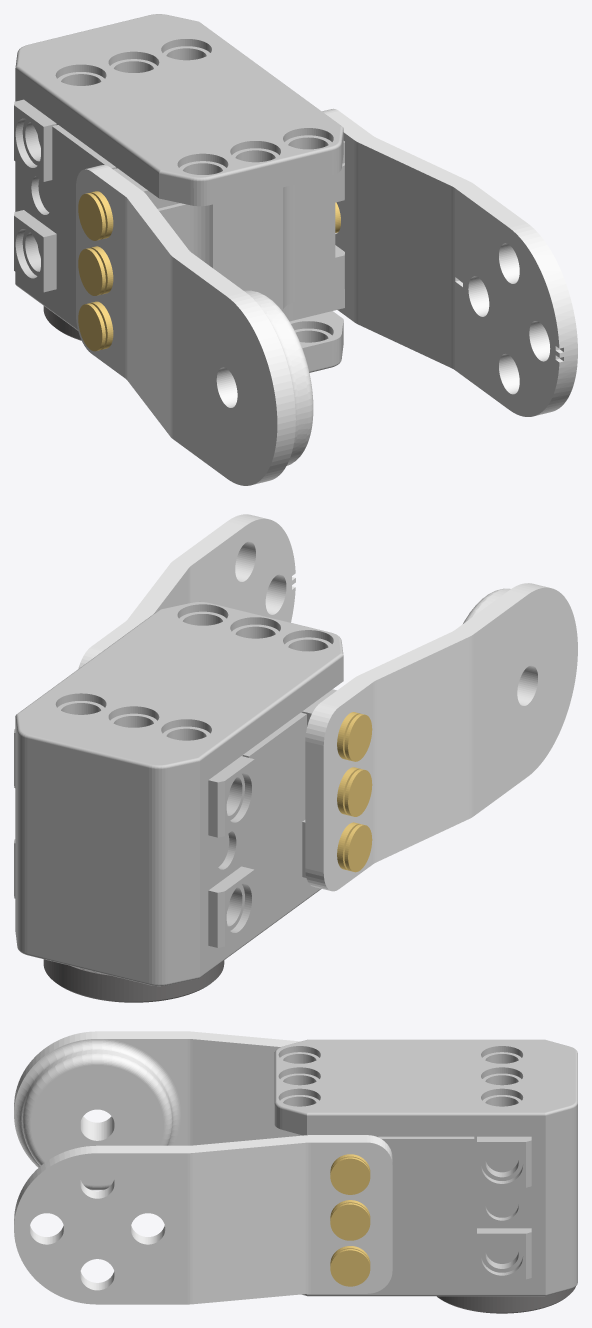
File: section_3.dae
3 renders of one model, top to bottom at view 1: azimuth 30°, elevation 25°; view 2: azimuth 150°, elevation 25°; view 3: azimuth 270°, elevation 25°, orthographic. The views are drawn at different scales.
Visible parts, largest first — view 1: body_001, Untitled_015, Untitled_017, insert_005, insert_003, insert_002; view 2: body_001, Untitled_017, Untitled_015, horn_001, insert_003, insert_002, insert_005; view 3: body_001, Untitled_015, Untitled_017, horn_001, insert_001, insert_004, insert_006.
Boxes of the visible parts, x1,y1,x2,y2 form: body_001: [14, 14, 344, 372]; Untitled_015: [322, 108, 577, 416]; Untitled_017: [76, 165, 313, 485]; insert_005: [78, 303, 105, 351]; insert_003: [78, 248, 105, 295]; insert_002: [78, 193, 105, 240]; body_001: [14, 601, 343, 986]; Untitled_017: [305, 583, 577, 891]; Untitled_015: [78, 514, 295, 668]; horn_001: [43, 959, 224, 1002]; insert_003: [344, 769, 372, 816]; insert_002: [344, 714, 372, 761]; insert_005: [344, 824, 372, 872]; body_001: [274, 1039, 577, 1296]; Untitled_015: [14, 1135, 392, 1304]; Untitled_017: [14, 1031, 302, 1190]; horn_001: [437, 1286, 575, 1313]; insert_001: [330, 1203, 370, 1240]; insert_004: [330, 1157, 370, 1194]; insert_006: [330, 1249, 370, 1286].
Size of the model in its own units: 0.0342 by 0.0669 by 0.027.
